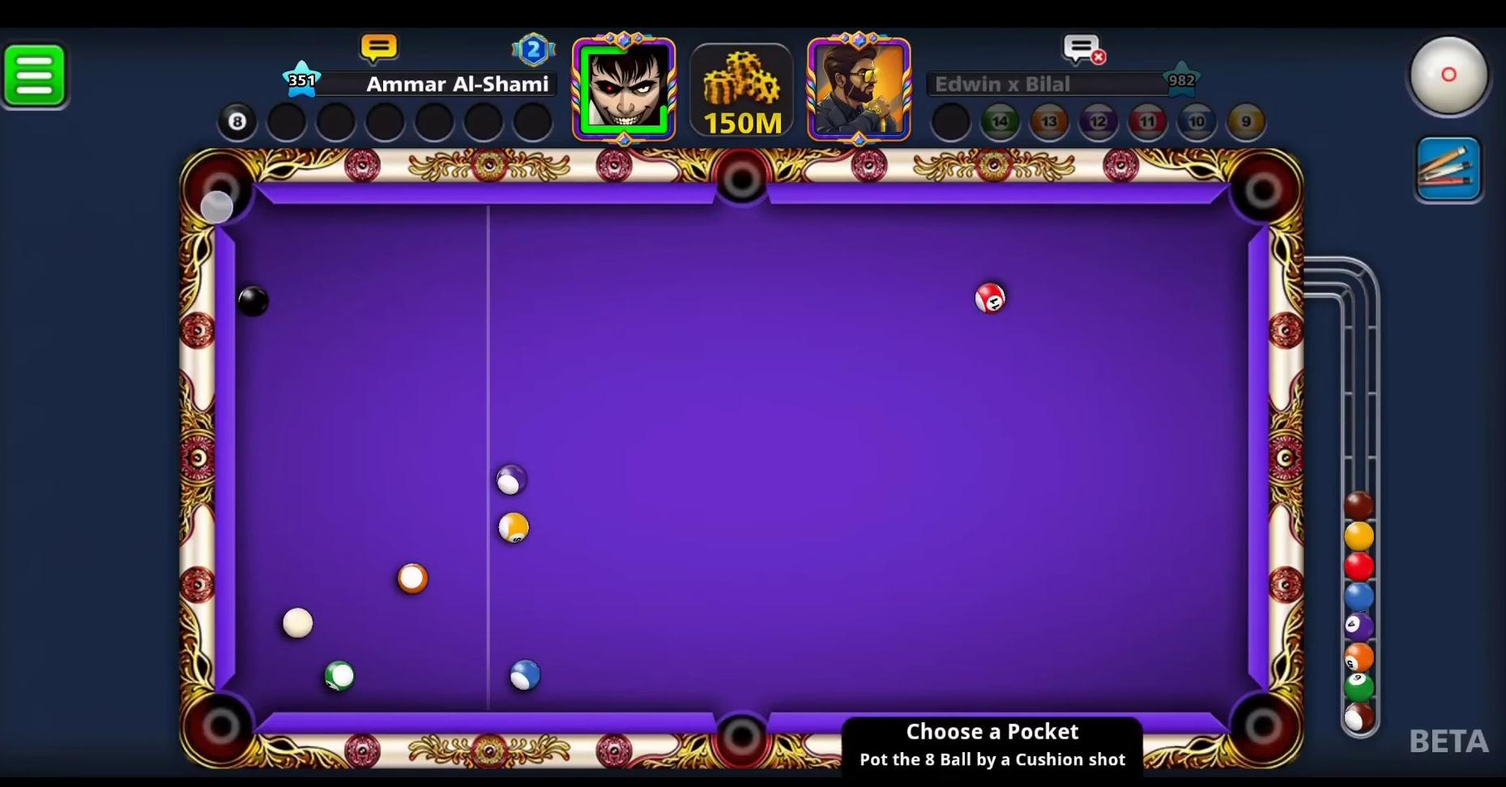Ball: (497, 652, 547, 697), (226, 282, 279, 322), (315, 658, 365, 696), (488, 459, 533, 499), (971, 277, 1009, 320), (494, 510, 535, 547), (393, 561, 432, 598)
Hole: (170, 678, 271, 774), (1218, 680, 1304, 775), (176, 142, 266, 232), (1220, 143, 1303, 232), (700, 693, 785, 773), (702, 144, 782, 221)
Play_Area: (235, 204, 1248, 711)
Spin: (1402, 28, 1504, 130)
White: (276, 606, 317, 640)
